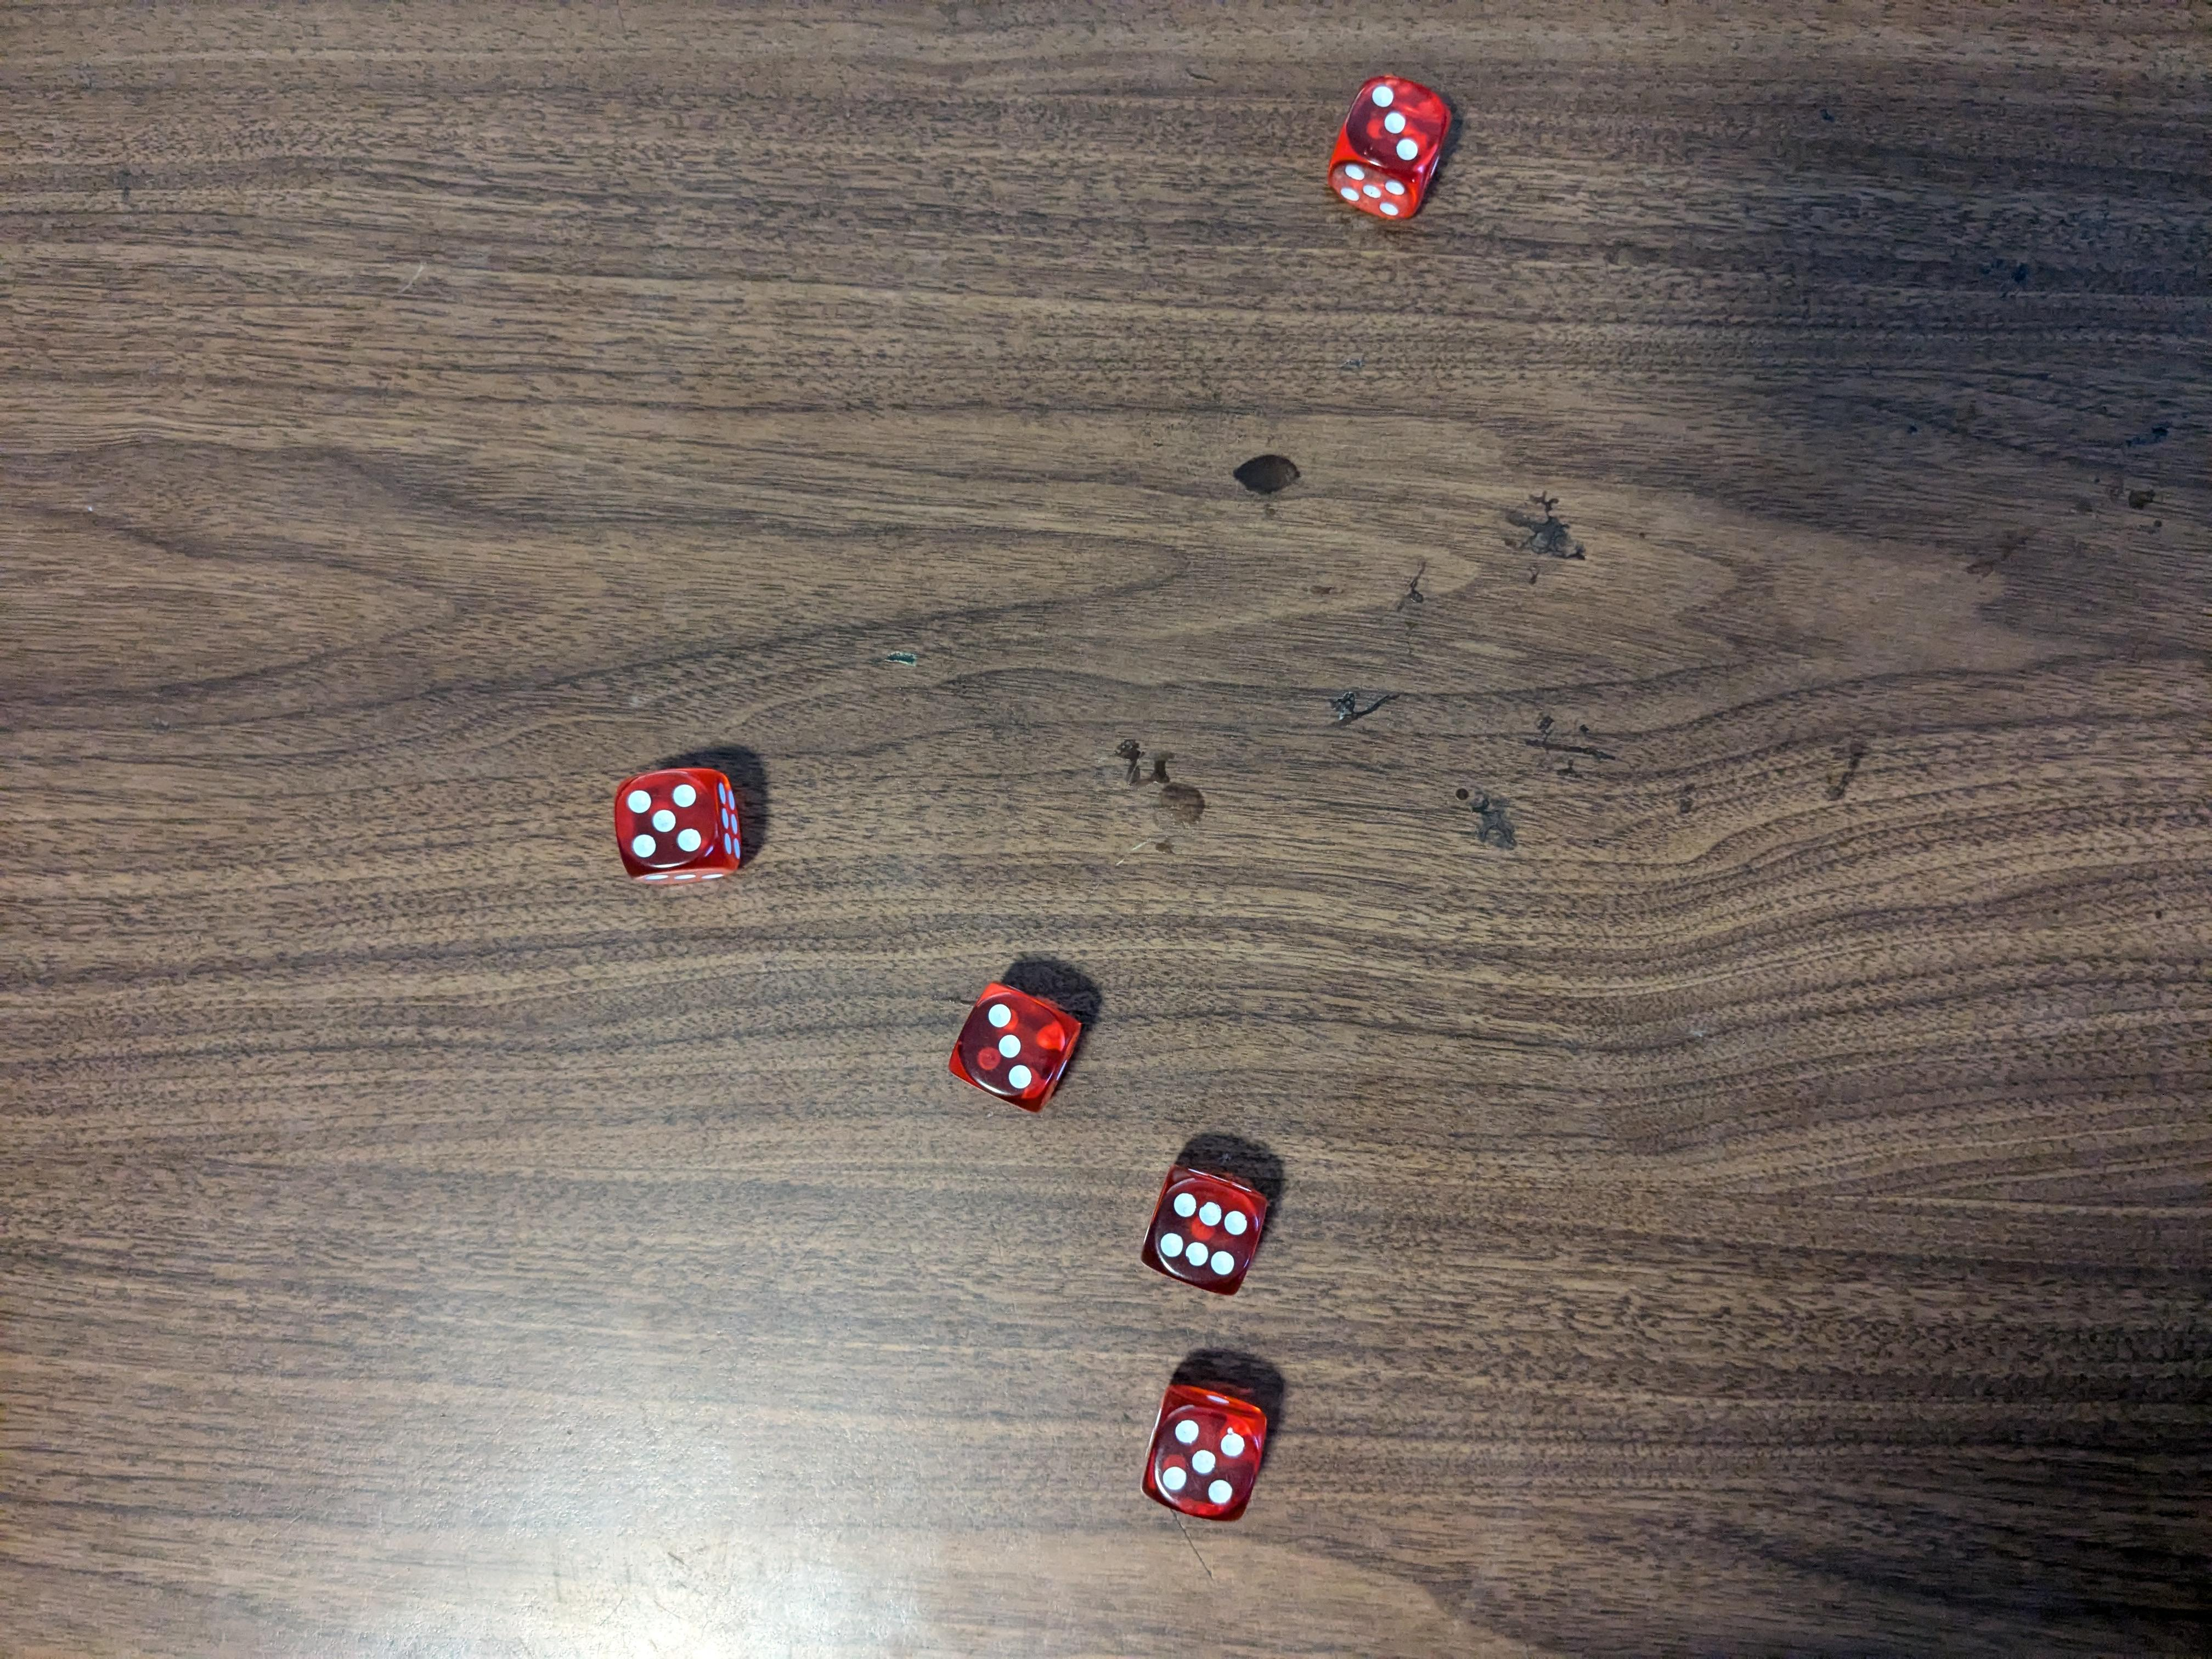five: (1141, 1375, 1275, 1518), (611, 765, 747, 887)
six: (1141, 1164, 1275, 1298)
three: (939, 981, 1090, 1114), (1331, 73, 1449, 214)
